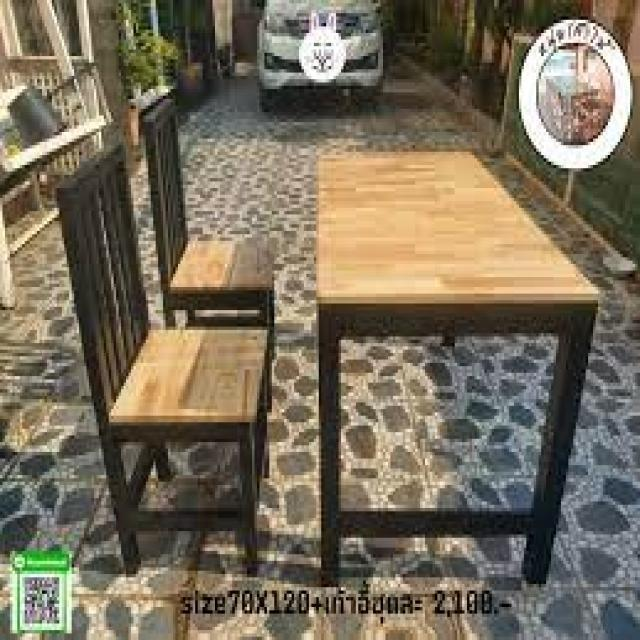table: (311, 128, 602, 382)
